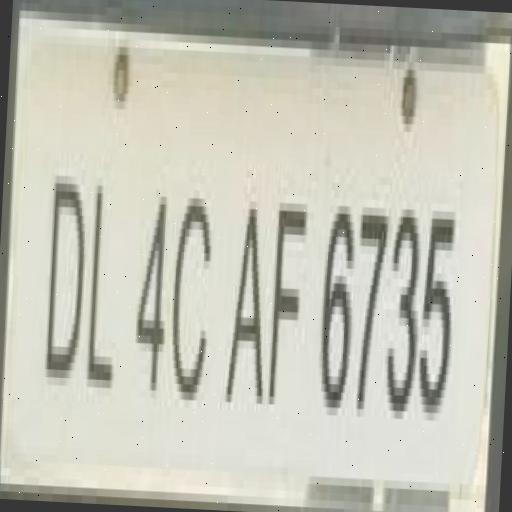number plate: (0, 25, 499, 512)
